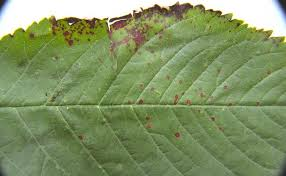Diseased_Leaves: (111, 14, 160, 55), (44, 19, 102, 47), (162, 5, 197, 26), (174, 131, 179, 138)
